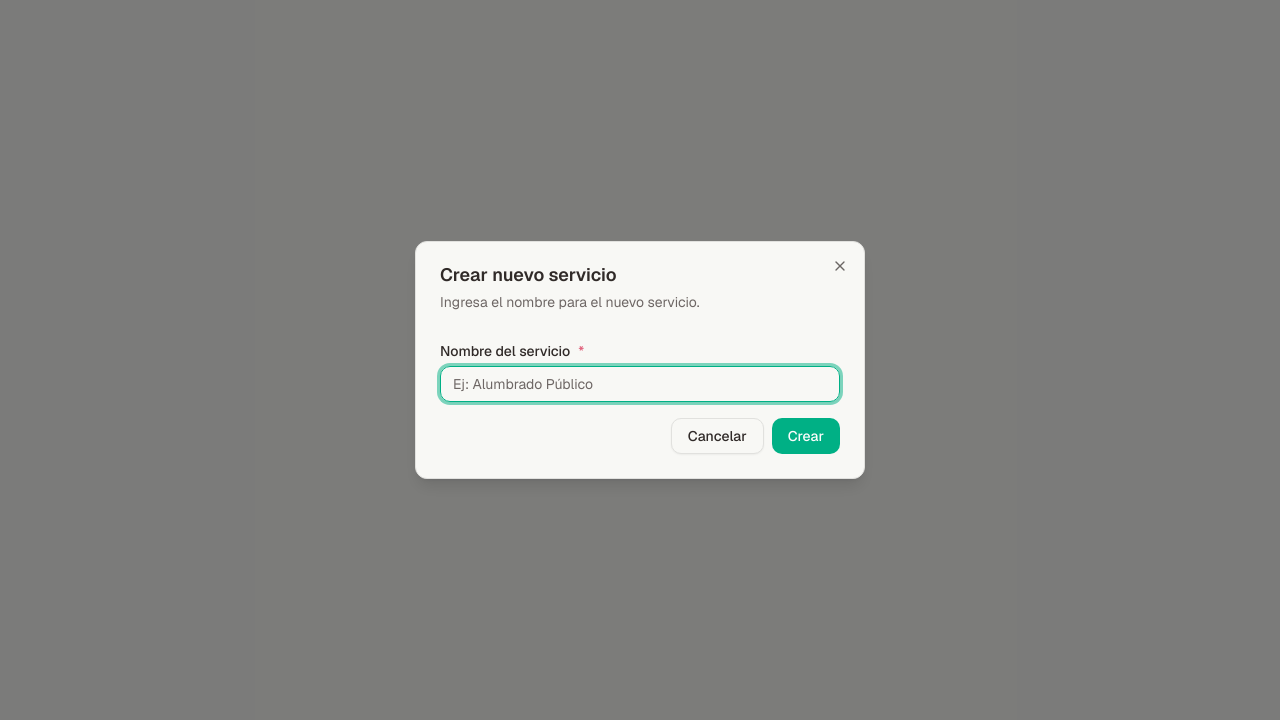
Test: ServiceForm › should validate required name field
Click the button "Crear".
click(806, 436)  # box [772, 418, 840, 454]
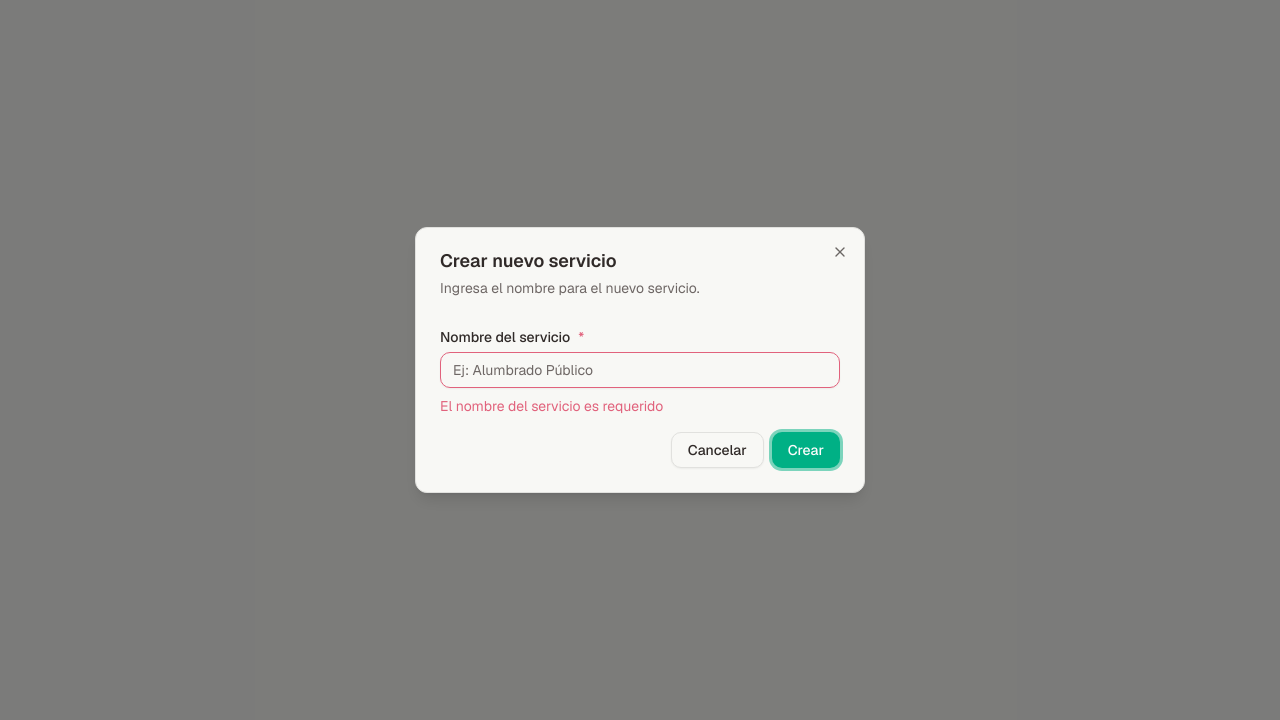
Result: the text "El nombre del servicio es requerido" is shown at [440, 397, 663, 415]
